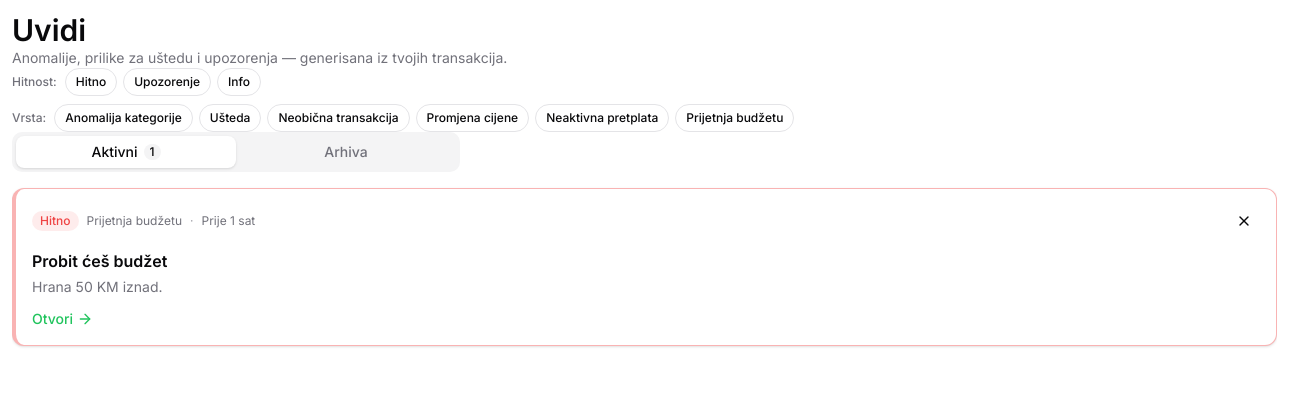
it: UvidiClient › shows filter-specific empty message when filtered to nothing
type filter "savings_opportunity" — won't match the alert (budget_breach)
Click the button "Ušteda": click(230, 118) x1=199 y1=104 x2=261 y2=132
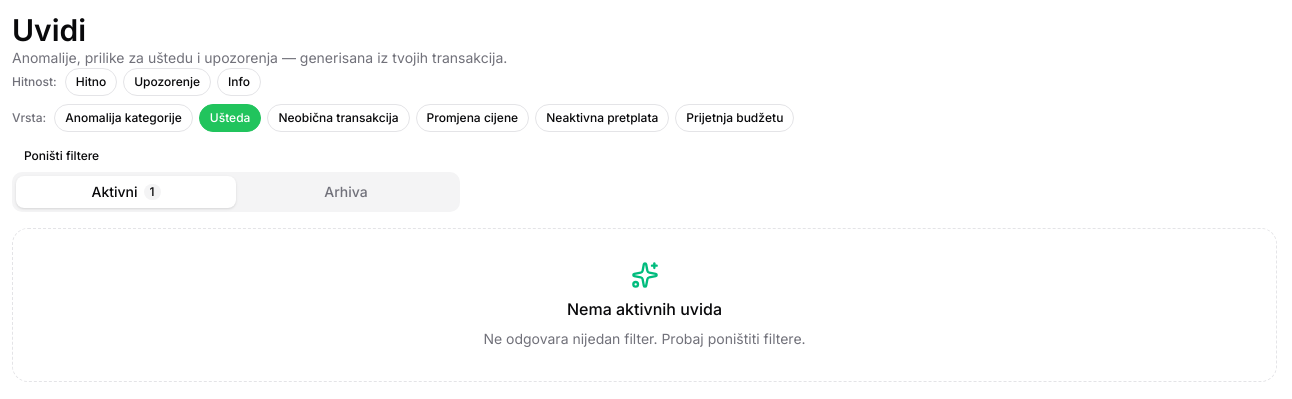
expect the text "Ne odgovara nijedan filter. Probaj poništiti filtere." is shown: met, box x1=483 y1=329 x2=806 y2=349
